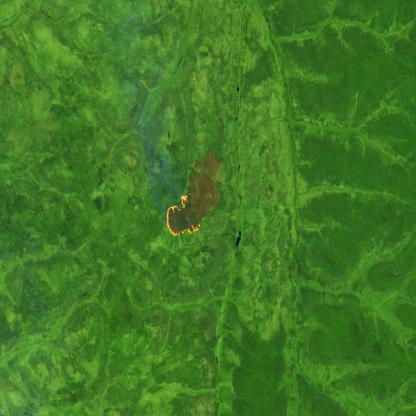fire: (158, 187, 201, 245)
